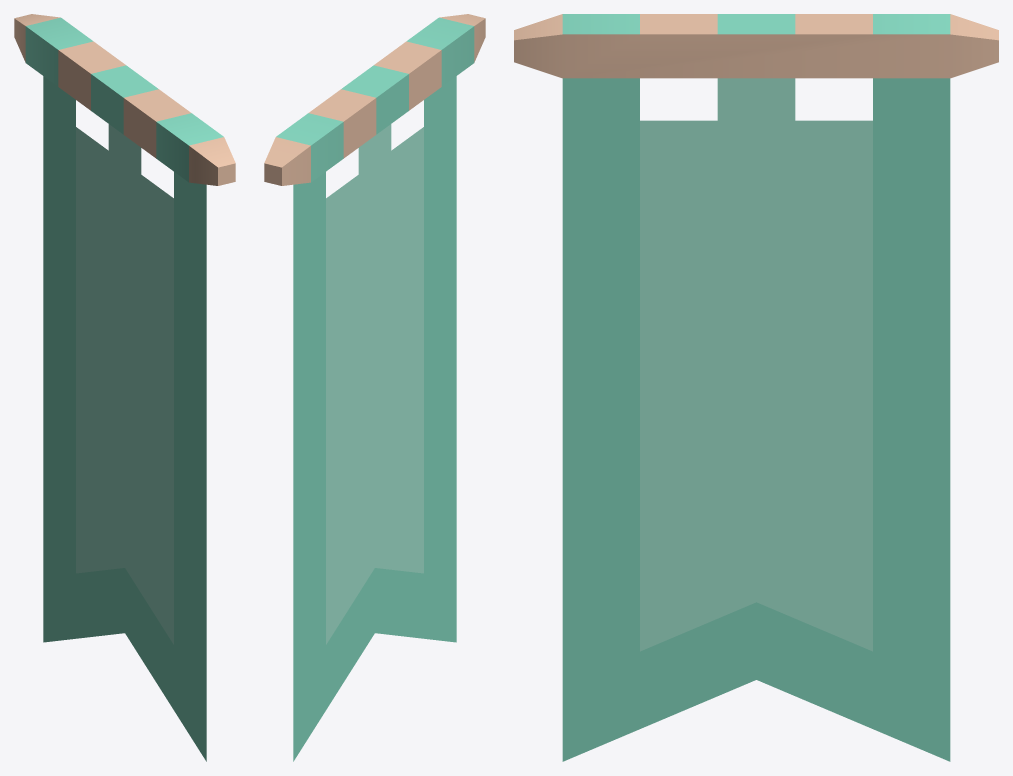
The picture shows the model from 3 angles, left to right: view 1: azimuth 30°, elevation 25°; view 2: azimuth 150°, elevation 25°; view 3: azimuth 270°, elevation 25°; orthographic projection. The views are drawn at different scales.
Visible parts, largest first — view 1: bannerGreen; view 2: bannerGreen; view 3: bannerGreen.
Part boxes in pixels (<box>): bannerGreen: <box>14,14,235,761</box>; bannerGreen: <box>264,14,485,761</box>; bannerGreen: <box>514,14,998,761</box>.
Bounding box in the file's own units: 0.05 × 0.8394 × 0.5.
